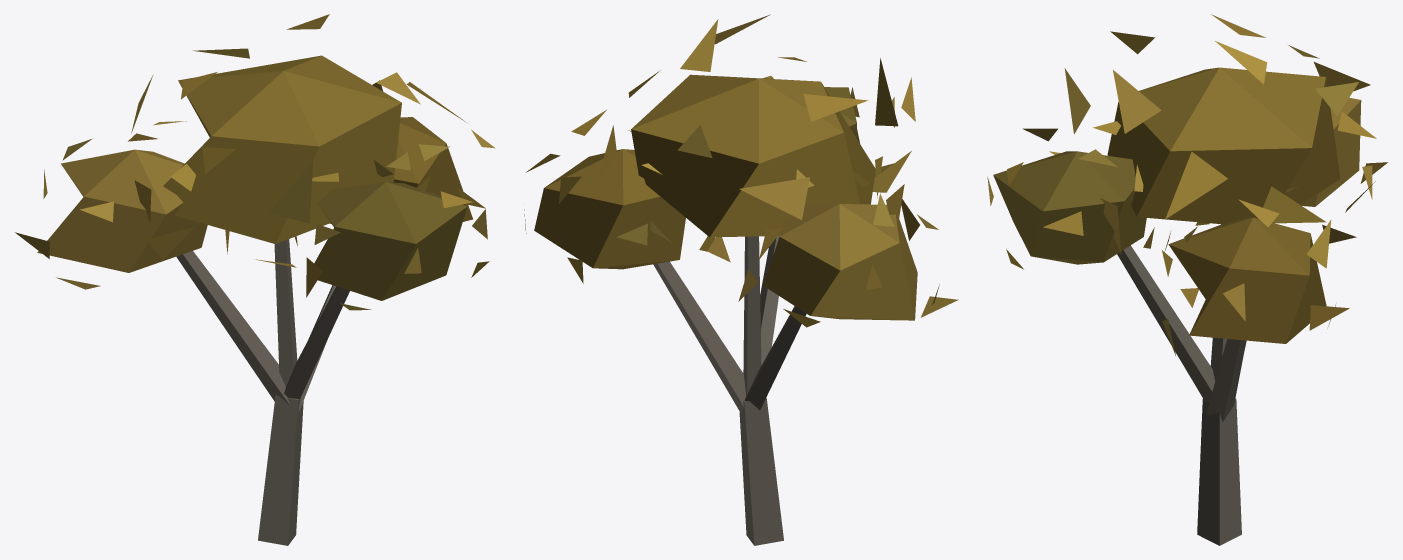
File: cottonwood-lite.glb
The picture shows the model from 3 angles, left to right: view 1: azimuth 30°, elevation 25°; view 2: azimuth 150°, elevation 25°; view 3: azimuth 270°, elevation 25°; orthographic projection. The views are drawn at different scales.
Parts seen in each view (by area): view 1: cottonwood-lite / foliage-core, cottonwood-lite / wood, cottonwood-lite / foliage; view 2: cottonwood-lite / foliage-core, cottonwood-lite / wood, cottonwood-lite / foliage; view 3: cottonwood-lite / foliage-core, cottonwood-lite / foliage, cottonwood-lite / wood.
Part boxes in pixels (left/top/right/bottom): cottonwood-lite / foliage-core: left=37, top=55, right=472, bottom=300; cottonwood-lite / wood: left=176, top=239, right=349, bottom=545; cottonwood-lite / foliage: left=15, top=14, right=495, bottom=310; cottonwood-lite / foliage-core: left=534, top=74, right=917, bottom=320; cottonwood-lite / wood: left=653, top=236, right=806, bottom=545; cottonwood-lite / foliage: left=524, top=14, right=958, bottom=327; cottonwood-lite / foliage-core: left=993, top=67, right=1361, bottom=343; cottonwood-lite / foliage: left=987, top=14, right=1387, bottom=355; cottonwood-lite / wood: left=1117, top=245, right=1246, bottom=545.
Size of the model in its own units: 14.02 by 15.38 by 10.73.
